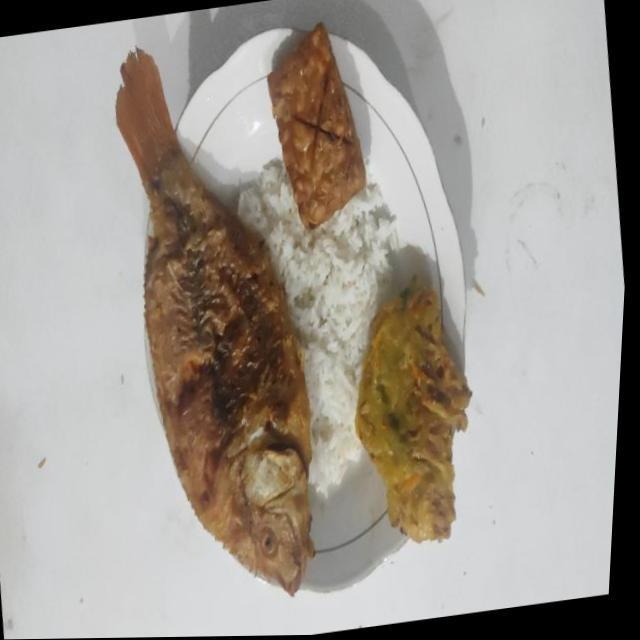ikan_mujair: (116, 48, 314, 595)
nasi_putih: (237, 158, 398, 497)
tempe_goreng: (267, 22, 365, 230)
